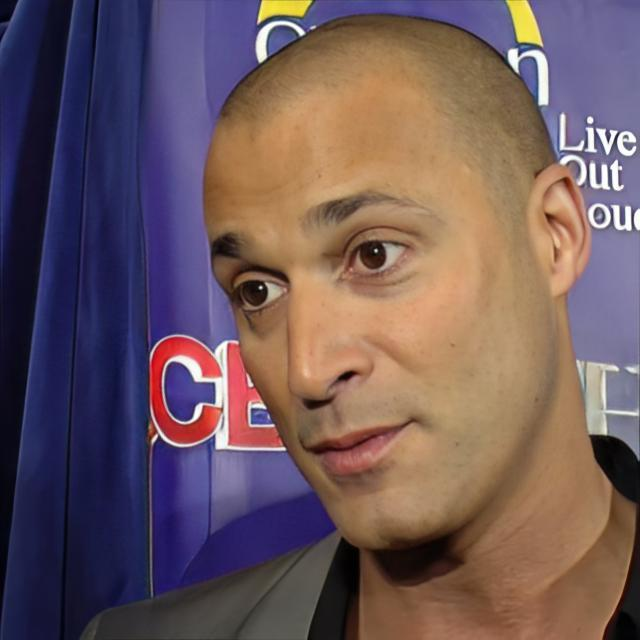neutral: (198, 14, 532, 555)
